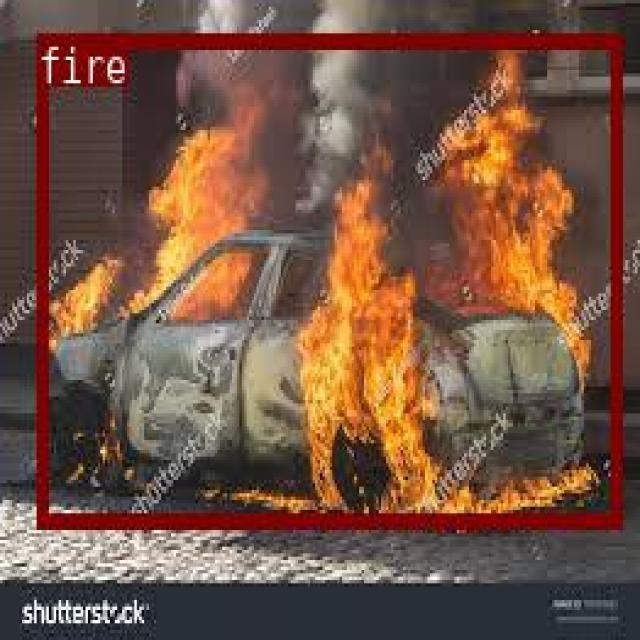fire: (35, 31, 619, 525)
